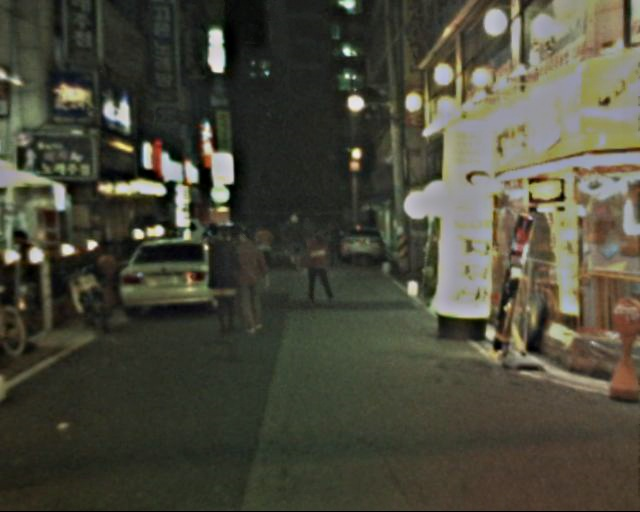person: (229, 227, 273, 343), (210, 225, 251, 347), (306, 225, 342, 312), (281, 210, 308, 277), (253, 219, 277, 277)
